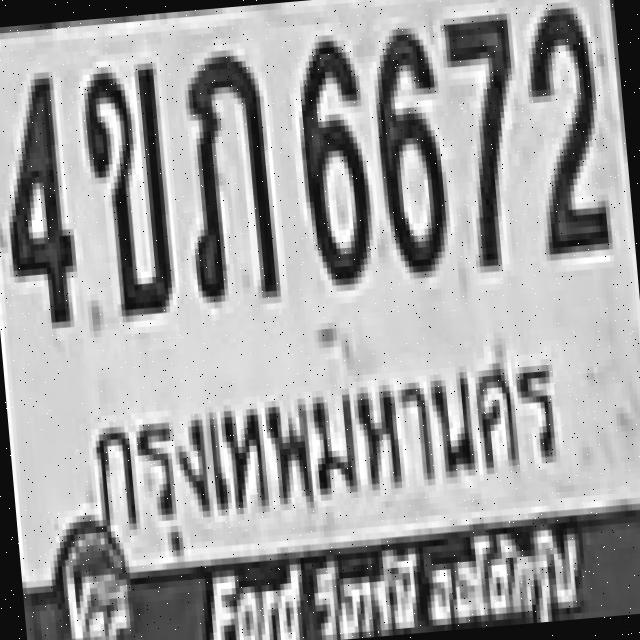11KhorKhai: (77, 59, 173, 315)
2: (522, 0, 611, 255)
4: (0, 64, 77, 325)
41PhorSamPhao: (172, 44, 278, 300)
6: (366, 19, 450, 274), (290, 32, 374, 282)
7: (438, 7, 528, 268)
Bangkok: (79, 353, 572, 542)
